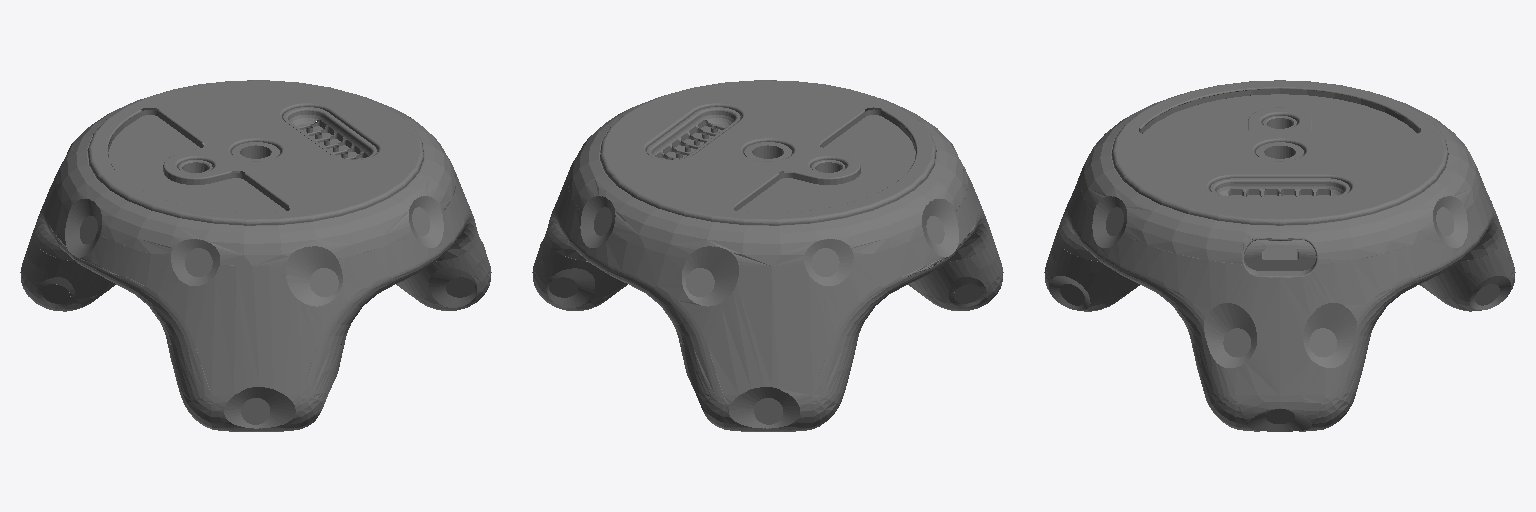
robot.urdf — tracker:
<?xml version="0.0" ?>
<robot name="tracker">
  <link name="trackerLink">
  <contact>
      <lateral_friction value="100"/>
  </contact>
    <inertial>
      <origin rpy="0 0 0" xyz="0 0 0"/>
       <mass value=".0"/>
       <inertia ixx="0" ixy="0" ixz="0" iyy="0" iyz="0" izz="0"/>
    </inertial>
    <visual>
      <origin rpy="-1.57 0 -1.57" xyz="0 0 0"/>
      <geometry>
	    <mesh filename="tracker.stl" scale="0.001 0.001 0.001"/>
      </geometry>
       <material name="grey">
        <color rgba="0.5 0.5 0.5 1"/>
      </material>
    </visual>
    <collision>
      <origin rpy="-1.57 0 -1.57" xyz="0 0 0"/>
      <geometry>
	    <mesh filename="tracker.stl" scale="0.001 0.001 0.001"/>
      </geometry>
       <material name="grey">
        <color rgba="0.5 0.5 0.5 1"/>
      </material>
    </collision>
  </link>
</robot>

--- Render facts (derived) ---
The picture shows the robot from 3 angles, left to right: view 1: azimuth 30°, elevation 25°; view 2: azimuth 150°, elevation 25°; view 3: azimuth 270°, elevation 25°; orthographic projection.
Robot: tracker — 1 links, 0 joints (none); root link trackerLink; default pose: every joint at zero.
Links seen in each view (by area): view 1: trackerLink; view 2: trackerLink; view 3: trackerLink.
Boxes of the visible links, <box> form: trackerLink: <box>20,80,491,431</box>; trackerLink: <box>532,80,1003,431</box>; trackerLink: <box>1044,80,1515,431</box>.
Size in the robot's own frame: 0.0921 by 0.0945 by 0.0423 metres.
Meshes: 1 distinct files referenced, 1 mesh visuals loaded (1 binary STL).